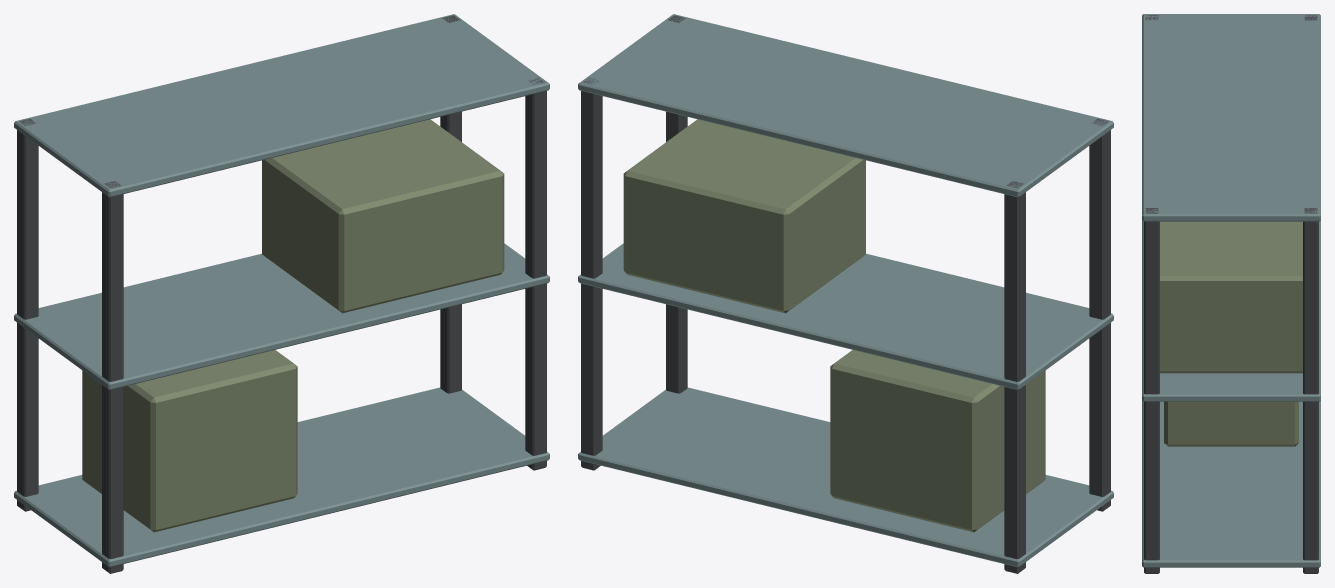
File: shelf_unit_low.glb
3 views of the same model, side by side, from view 1: azimuth 30°, elevation 25°; view 2: azimuth 150°, elevation 25°; view 3: azimuth 270°, elevation 25° (orthographic). The views are drawn at different scales.
Visible parts, largest first — view 1: shelf_unit_low; view 2: shelf_unit_low; view 3: shelf_unit_low.
Boxes of the visible parts, x1=… form: shelf_unit_low: x1=14, y1=14, x2=549, y2=573; shelf_unit_low: x1=578, y1=14, x2=1113, y2=573; shelf_unit_low: x1=1142, y1=14, x2=1320, y2=573.
Bounding box in the file's own units: 1.2 × 1 × 0.45.
